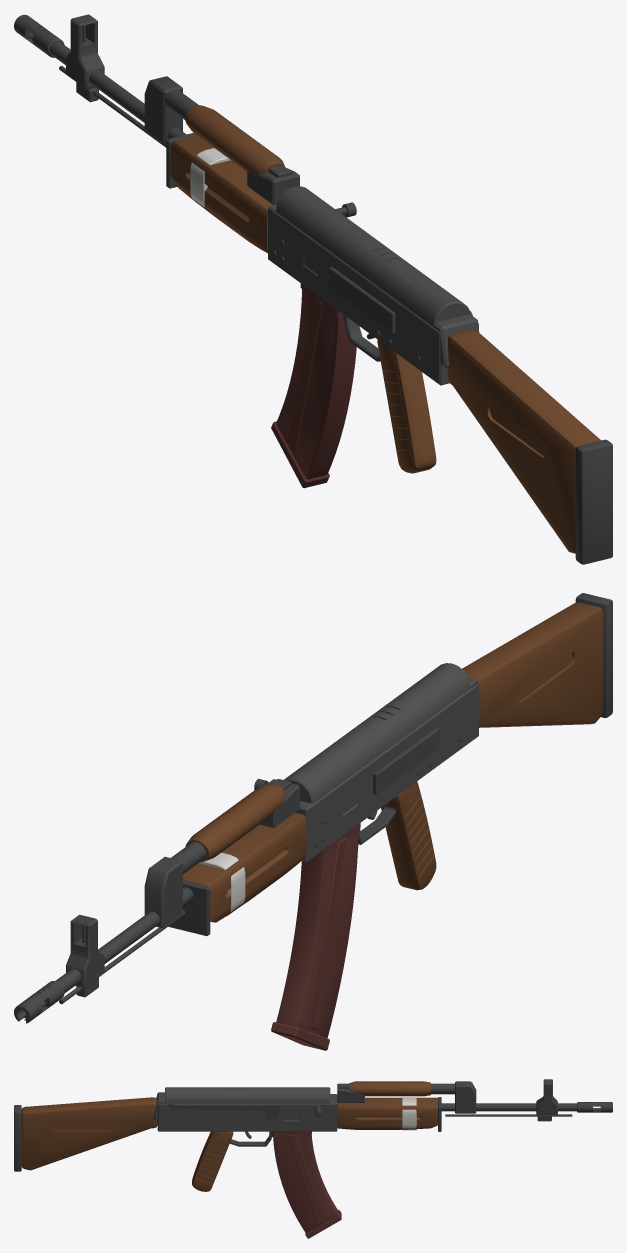
3 views of the same model, one above another, from view 1: azimuth 30°, elevation 25°; view 2: azimuth 150°, elevation 25°; view 3: azimuth 270°, elevation 25° (orthographic). The views are drawn at different scales.
Parts seen in each view (by area): view 1: Wood, Body, Metal, Mag, Tape; view 2: Wood, Body, Metal, Mag, Tape; view 3: Wood, Body, Metal, Mag, Tape.
Part boxes in pixels (x1,y1,x2,y2): Wood: [170, 105, 600, 553]; Body: [268, 186, 479, 385]; Metal: [14, 14, 612, 564]; Mag: [271, 283, 356, 488]; Tape: [190, 148, 230, 207]; Wood: [183, 602, 603, 922]; Body: [284, 663, 481, 862]; Metal: [14, 593, 612, 1023]; Mag: [271, 823, 360, 1050]; Tape: [198, 852, 245, 915]; Wood: [21, 1081, 437, 1191]; Body: [153, 1087, 337, 1131]; Metal: [14, 1079, 612, 1171]; Mag: [272, 1131, 341, 1238]; Tape: [402, 1098, 416, 1130].
Size of the model in its own units: 0.37 by 1.42 by 5.
